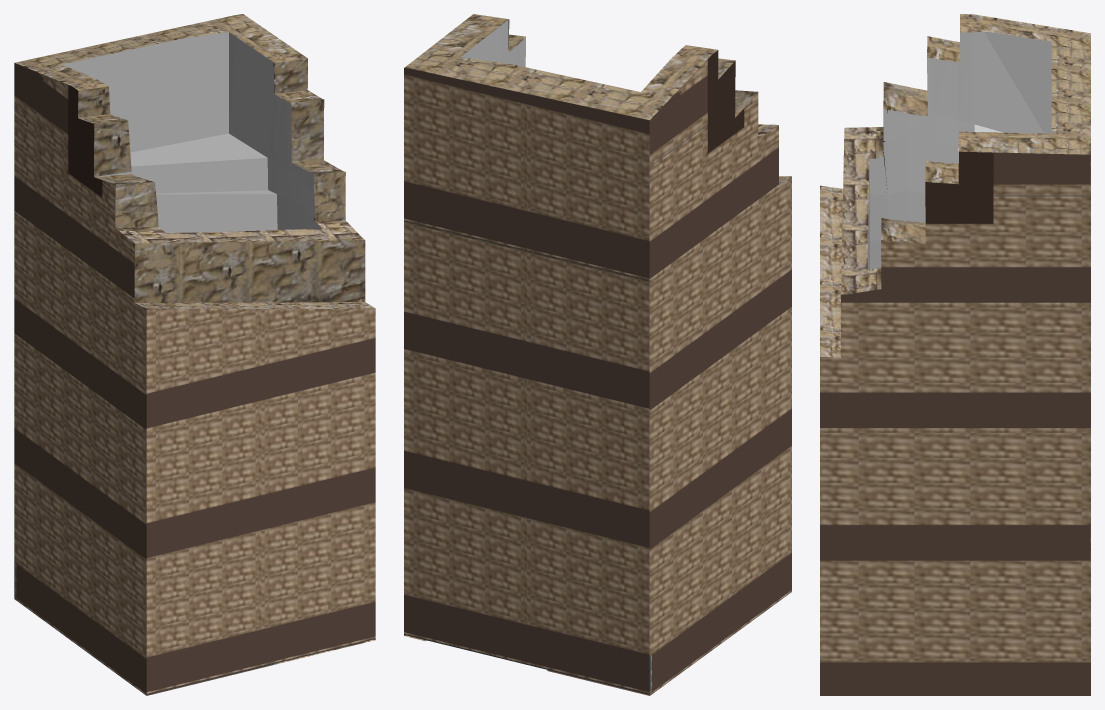
File: Persian_WallTower_Semidemolished.fbx
3 renders of one model, left to right at view 1: azimuth 30°, elevation 25°; view 2: azimuth 150°, elevation 25°; view 3: azimuth 270°, elevation 25°, orthographic. The views are drawn at different scales.
Parts seen in each view (by area): view 1: Cube_000; view 2: Cube_000; view 3: Cube_000.
Boxes of the visible parts, x1=… form: Cube_000: x1=14, y1=14, x2=375, y2=695; Cube_000: x1=404, y1=14, x2=791, y2=695; Cube_000: x1=820, y1=14, x2=1090, y2=695.
Size of the model in its own units: 2.64 by 6.12 by 2.64.
